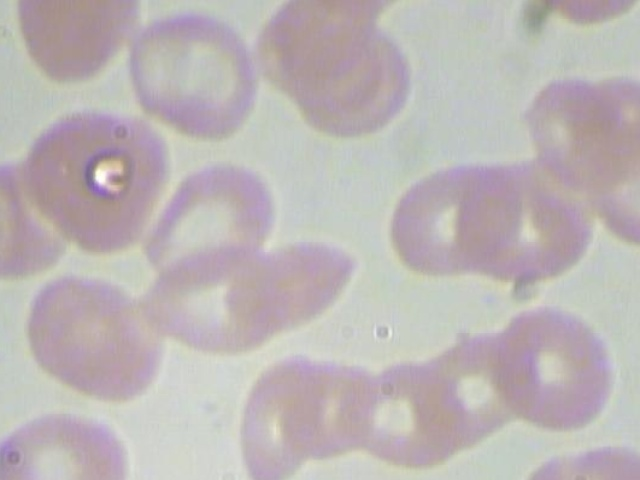RBC: (13, 97, 169, 260), (14, 264, 174, 410), (125, 0, 275, 144), (484, 289, 621, 437), (385, 153, 525, 274), (218, 221, 357, 342), (424, 321, 554, 441), (0, 0, 155, 90), (350, 346, 462, 467), (224, 352, 322, 479), (282, 348, 375, 467), (0, 411, 132, 480)
